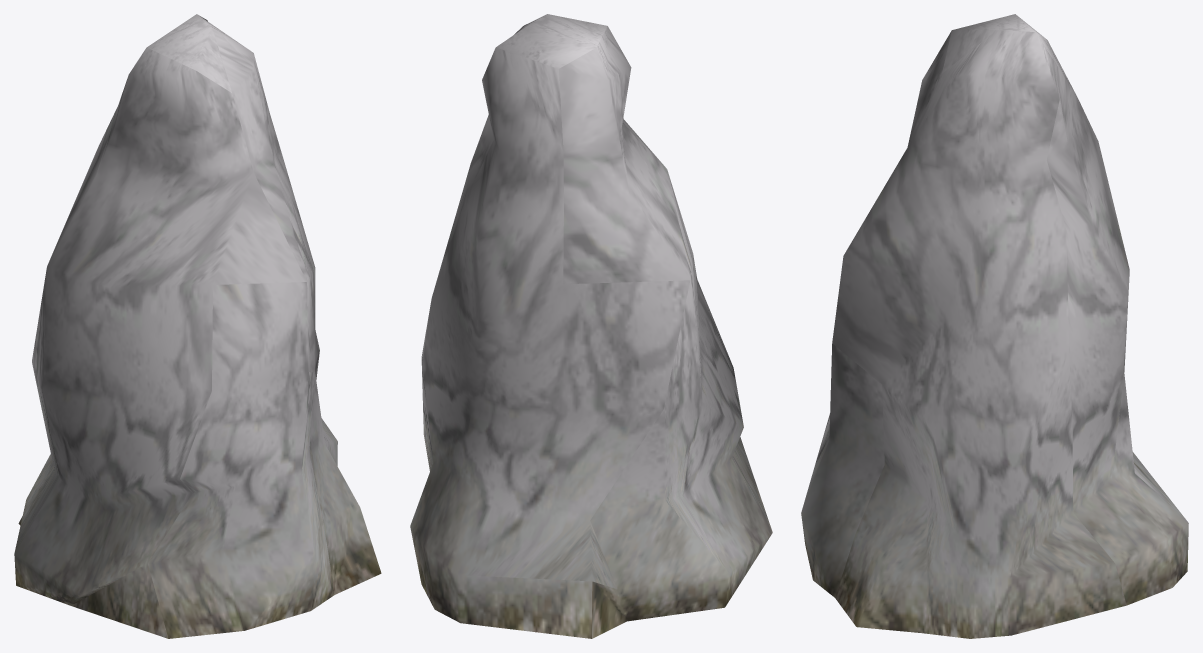
The model's file is general_obj_bigstone10.glb.
3 views of the same model, side by side, from view 1: azimuth 30°, elevation 25°; view 2: azimuth 150°, elevation 25°; view 3: azimuth 270°, elevation 25° (orthographic). The views are drawn at different scales.
Parts seen in each view (by area): view 1: Sphere01fs02; view 2: Sphere01fs02; view 3: Sphere01fs02.
Boxes of the visible parts, <box> form: Sphere01fs02: <box>14,14,381,638</box>; Sphere01fs02: <box>410,14,772,638</box>; Sphere01fs02: <box>801,14,1188,638</box>.
Bounding box in the file's own units: 13.35 × 21.51 × 13.75.
Materials: 1 (1 with a texture image).
